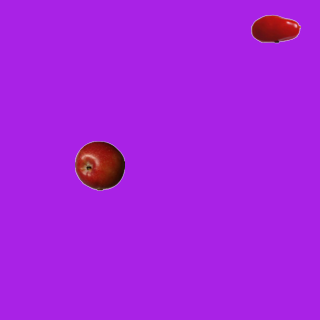Apple Braeburn: (74, 140, 124, 190)
Tomato 2: (250, 3, 300, 53)
